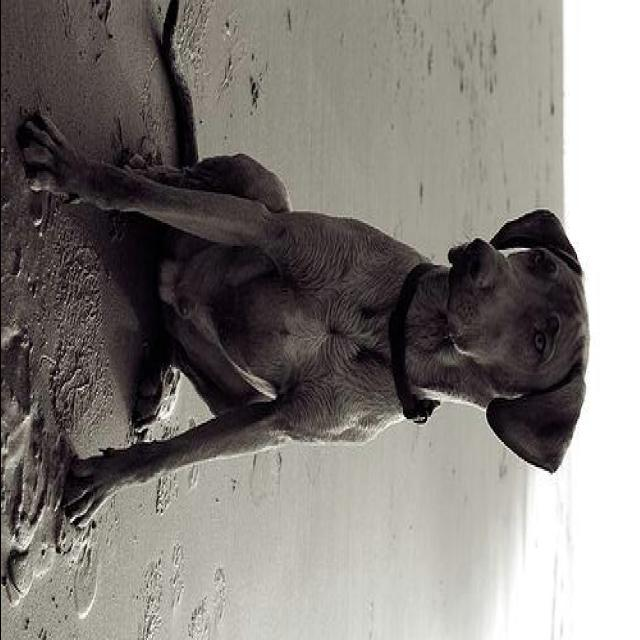rhodesian_ridgeback: (20, 4, 588, 530)
